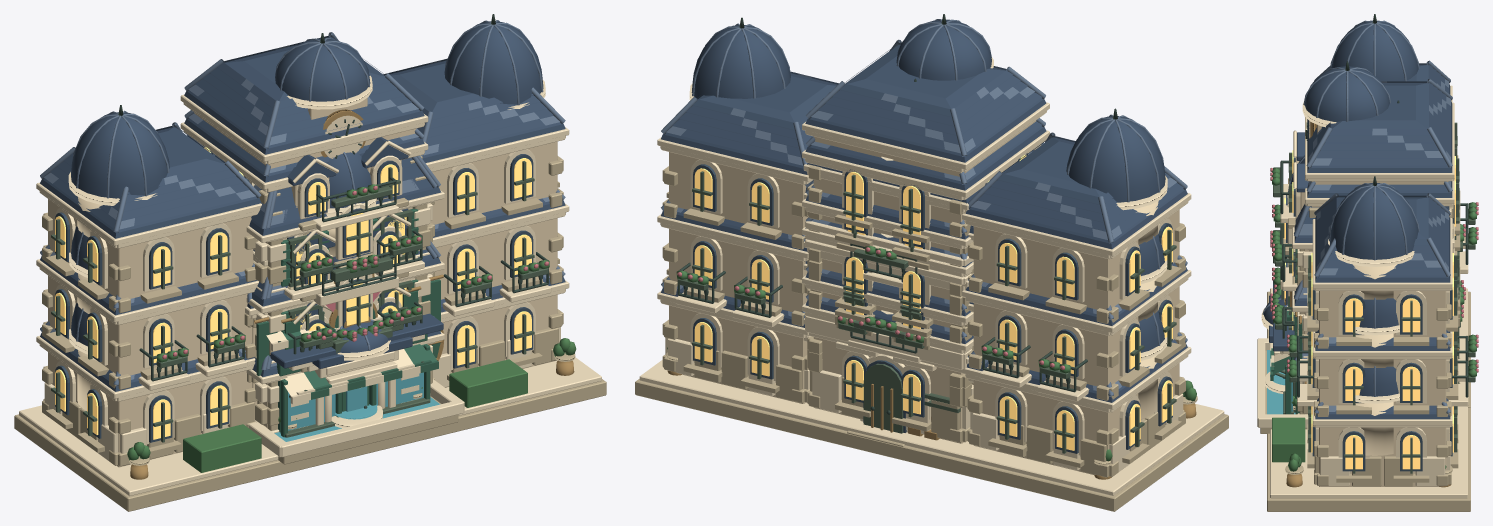
Rendered from classic.glb.
3 views of the same model, side by side, from view 1: azimuth 30°, elevation 25°; view 2: azimuth 150°, elevation 25°; view 3: azimuth 270°, elevation 25° (orthographic). The views are drawn at different scales.
Parts seen in each view (by area): view 1: classic_finance_3_geometry, classic_finance_1_geometry, classic_skyscraper_3_geometry, classic_finance_2_geometry, classic_hotel_3_geometry, classic_onsen_1_geometry, classic_skyscraper_2_geometry, classic_hotel_2_geometry, classic_shop_1_geometry, classic_skyscraper_1_geometry, classic_hotel_1_geometry, classic_shop_3_geometry (+6 smaller); view 2: classic_finance_3_geometry, classic_finance_1_geometry, classic_skyscraper_3_geometry, classic_finance_2_geometry, classic_skyscraper_2_geometry, classic_skyscraper_1_geometry, classic_onsen_1_geometry, classic_onsen_3_geometry, classic_hotel_3_geometry, classic_hotel_2_geometry, classic_card_pavilion_geometry, classic_onsen_2_geometry; view 3: classic_skyscraper_3_geometry, classic_finance_3_geometry, classic_finance_1_geometry, classic_finance_2_geometry, classic_skyscraper_2_geometry, classic_onsen_1_geometry, classic_hotel_3_geometry, classic_skyscraper_1_geometry, classic_hotel_2_geometry, classic_card_pavilion_geometry, classic_shop_1_geometry, classic_rush_station_geometry (+2 smaller).
Part boxes in pixels (<box>): classic_finance_3_geometry: <box>36,33,569,445</box>; classic_finance_1_geometry: <box>14,266,606,511</box>; classic_skyscraper_3_geometry: <box>68,14,545,369</box>; classic_finance_2_geometry: <box>36,189,569,466</box>; classic_hotel_3_geometry: <box>246,137,444,300</box>; classic_onsen_1_geometry: <box>183,359,527,472</box>; classic_skyscraper_2_geometry: <box>69,226,551,390</box>; classic_hotel_2_geometry: <box>246,214,444,429</box>; classic_shop_1_geometry: <box>260,334,440,437</box>; classic_skyscraper_1_geometry: <box>69,274,427,425</box>; classic_hotel_1_geometry: <box>246,287,444,433</box>; classic_shop_3_geometry: <box>265,156,440,292</box>; classic_finance_3_geometry: <box>657,14,1191,474</box>; classic_finance_1_geometry: <box>635,276,1228,511</box>; classic_skyscraper_3_geometry: <box>689,17,1167,402</box>; classic_finance_2_geometry: <box>657,199,1191,474</box>; classic_skyscraper_2_geometry: <box>675,185,1167,408</box>; classic_skyscraper_1_geometry: <box>802,266,1167,428</box>; classic_onsen_1_geometry: <box>803,310,970,446</box>; classic_onsen_3_geometry: <box>803,78,1015,426</box>; classic_hotel_3_geometry: <box>803,143,1043,384</box>; classic_hotel_2_geometry: <box>803,264,973,383</box>; classic_card_pavilion_geometry: <box>836,316,936,371</box>; classic_onsen_2_geometry: <box>803,233,970,427</box>; classic_skyscraper_3_geometry: <box>1270,14,1460,321</box>; classic_finance_3_geometry: <box>1299,60,1460,486</box>; classic_finance_1_geometry: <box>1267,288,1470,511</box>; classic_finance_2_geometry: <box>1299,257,1460,486</box>; classic_skyscraper_2_geometry: <box>1270,202,1478,406</box>; classic_onsen_1_geometry: <box>1257,338,1470,462</box>; classic_hotel_3_geometry: <box>1272,130,1465,414</box>; classic_skyscraper_1_geometry: <box>1261,295,1399,455</box>; classic_hotel_2_geometry: <box>1272,247,1465,406</box>; classic_card_pavilion_geometry: <box>1271,280,1463,412</box>; classic_shop_1_geometry: <box>1270,343,1299,414</box>; classic_rush_station_geometry: <box>1273,280,1296,351</box>.
Bounding box in the file's own units: 2.52 × 1.95 × 1.13.
